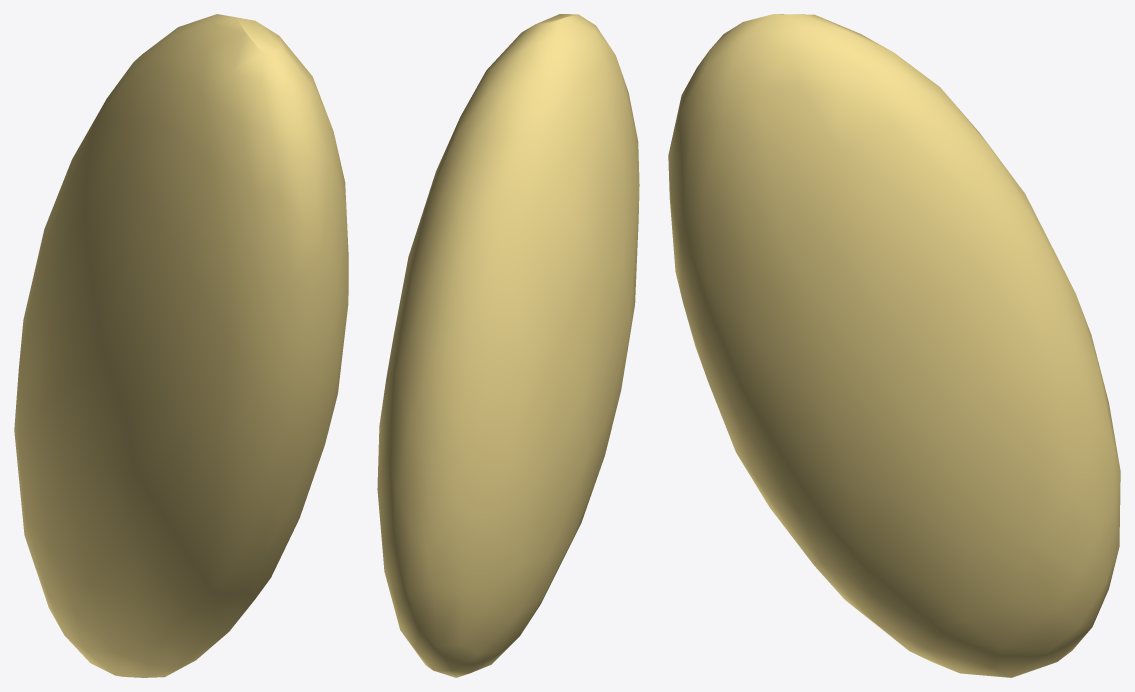
The model's file is fma73738_mm2701.glb.
3 views of the same model, side by side, from view 1: azimuth 30°, elevation 25°; view 2: azimuth 150°, elevation 25°; view 3: azimuth 270°, elevation 25° (orthographic). The views are drawn at different scales.
Visible parts, largest first — view 1: FMA73738_MM2701; view 2: FMA73738_MM2701; view 3: FMA73738_MM2701.
Boxes of the visible parts, box(x1,y1,x2,y2) form: FMA73738_MM2701: box(14, 14, 348, 677); FMA73738_MM2701: box(377, 14, 639, 677); FMA73738_MM2701: box(668, 14, 1120, 677).
Size of the model in its own units: 0.00329 by 0.0103 by 0.0064.
